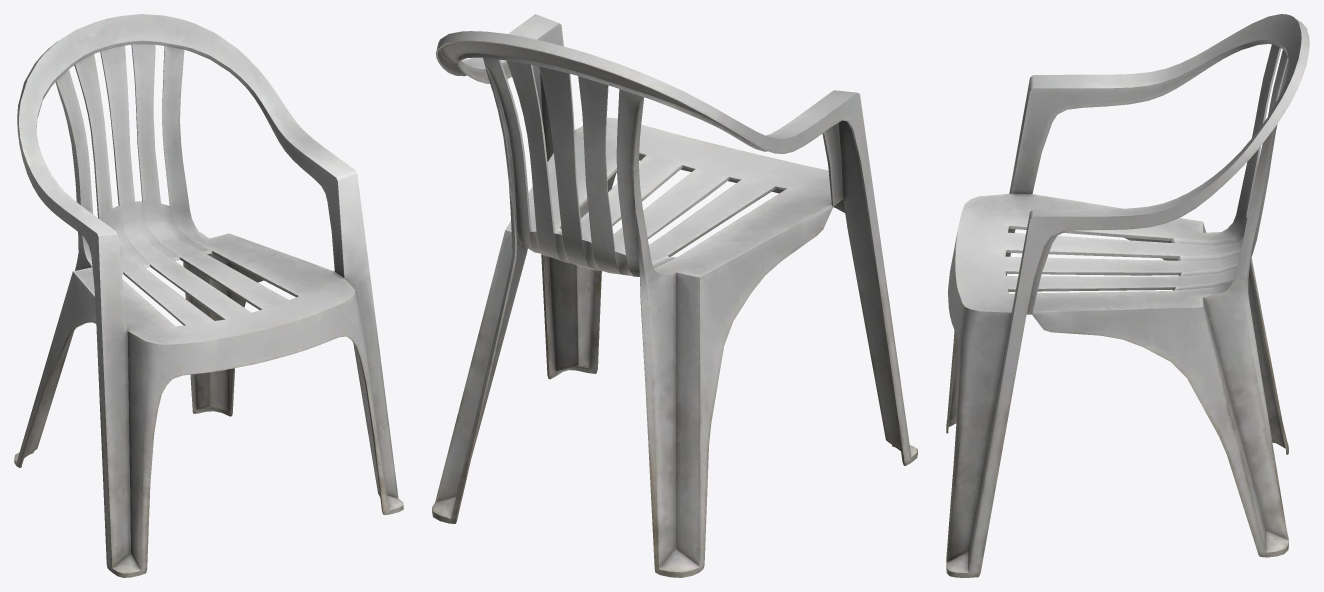
The model's file is plastic_monobloc_chair_01.glb.
3 views of the same model, side by side, from view 1: azimuth 30°, elevation 25°; view 2: azimuth 150°, elevation 25°; view 3: azimuth 270°, elevation 25° (orthographic). The views are drawn at different scales.
Visible parts, largest first — view 1: plastic_monobloc_chair_01; view 2: plastic_monobloc_chair_01; view 3: plastic_monobloc_chair_01.
Boxes of the visible parts, <box> form: plastic_monobloc_chair_01: <box>14,14,403,577</box>; plastic_monobloc_chair_01: <box>432,14,917,577</box>; plastic_monobloc_chair_01: <box>946,14,1309,577</box>.
Bounding box in the file's own units: 0.6418 × 0.8798 × 0.6276.
Materials: 1 (1 with a texture image).
